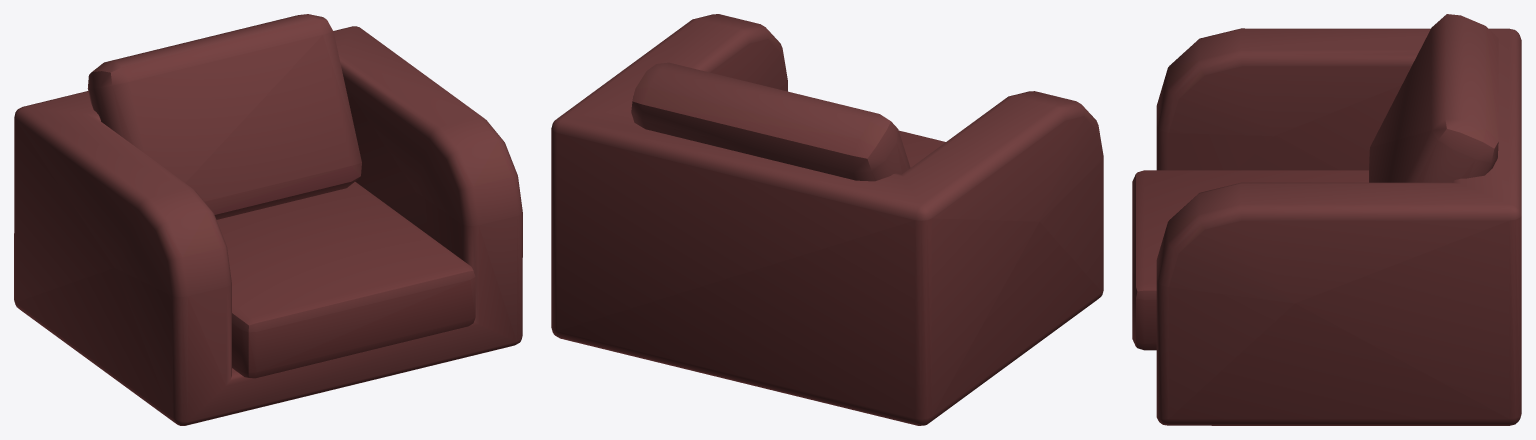
Rendered from armchair.high.c61020e0.glb.
The picture shows the model from 3 angles, left to right: view 1: azimuth 30°, elevation 25°; view 2: azimuth 150°, elevation 25°; view 3: azimuth 270°, elevation 25°; orthographic projection. The views are drawn at different scales.
Parts seen in each view (by area): view 1: armchair; view 2: armchair; view 3: armchair.
Part boxes in pixels (bbox=[...]): armchair: bbox=[14, 14, 522, 425]; armchair: bbox=[551, 14, 1103, 425]; armchair: bbox=[1132, 14, 1521, 425].
Size of the model in its own units: 0.95 by 0.646 by 0.8445.
